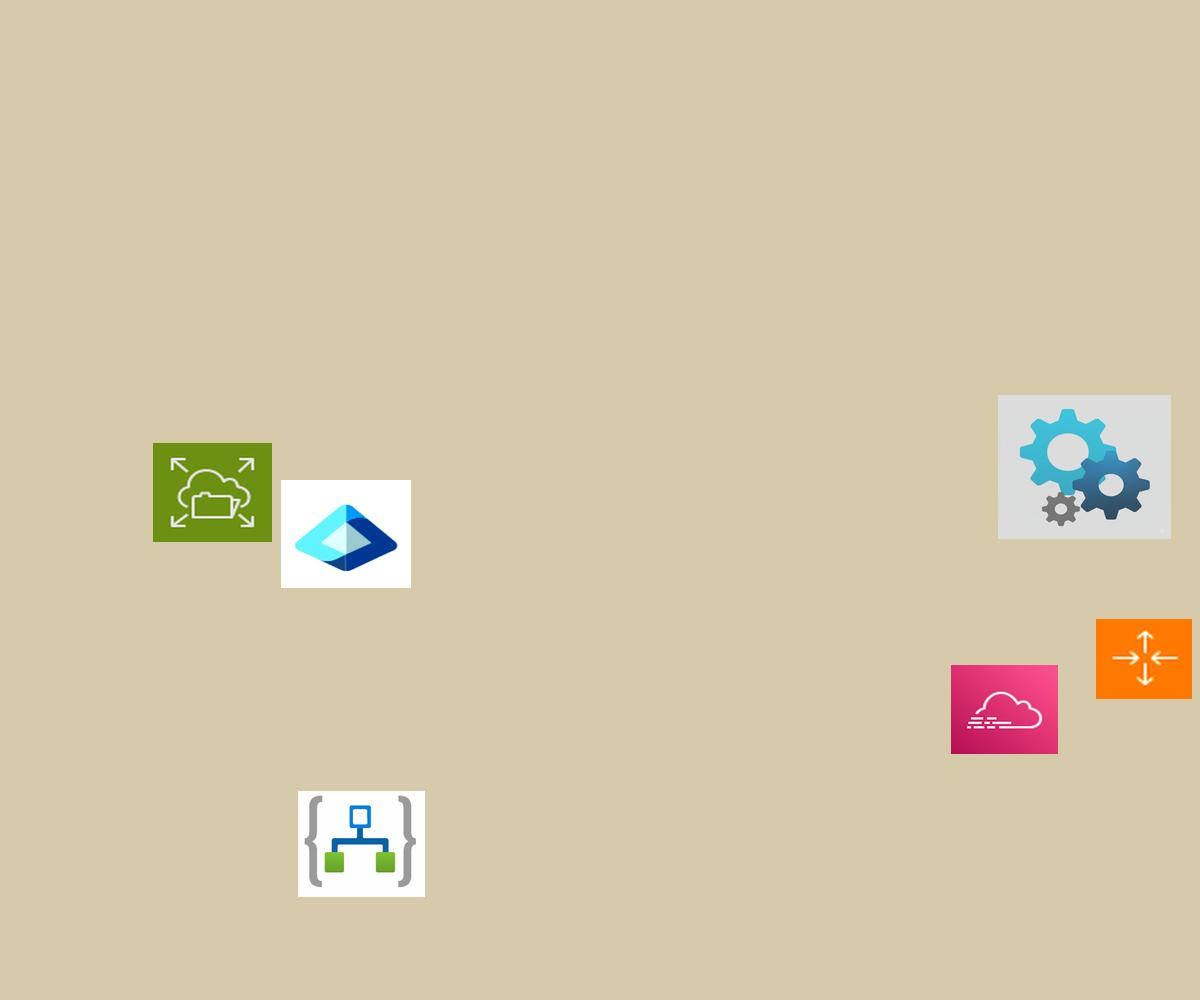AWS-CloudTrail: (951, 665, 1058, 754)
AWS-EFS: (153, 443, 272, 542)
AWS-Scaling-group: (1096, 619, 1192, 699)
Azure_api: (998, 395, 1171, 539)
Azure_integration-204-Logic-Apps: (298, 791, 425, 897)
Azure_microsoft_entra: (281, 480, 411, 588)
